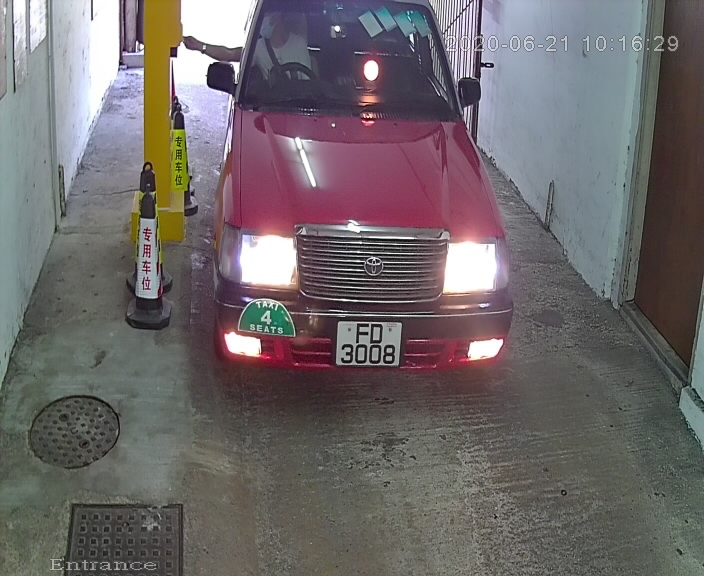taxi: (196, 2, 540, 408)
taxi_mark: (230, 277, 307, 351)
